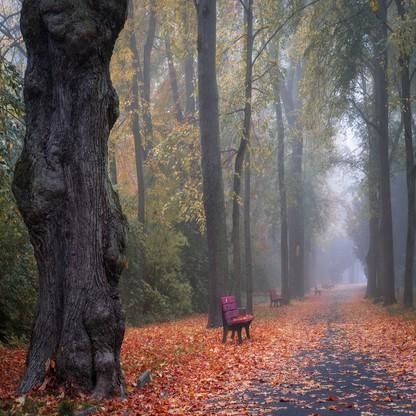obstacle: (196, 286, 259, 346)
